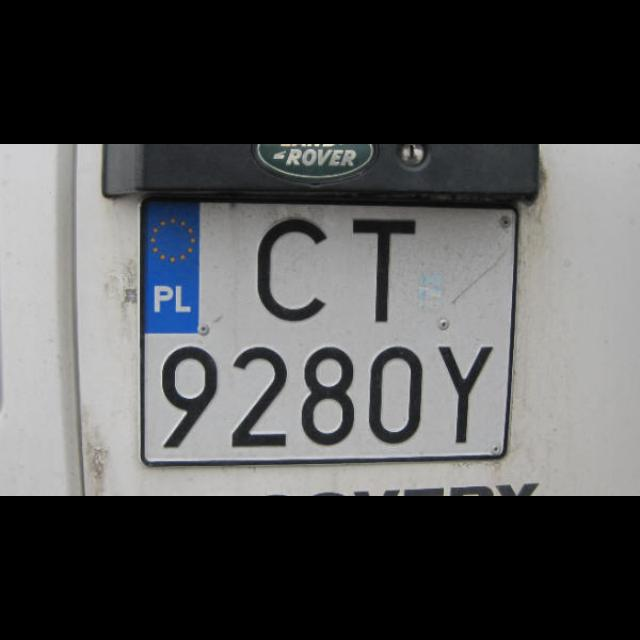pl_license_plate: (145, 203, 505, 453)
